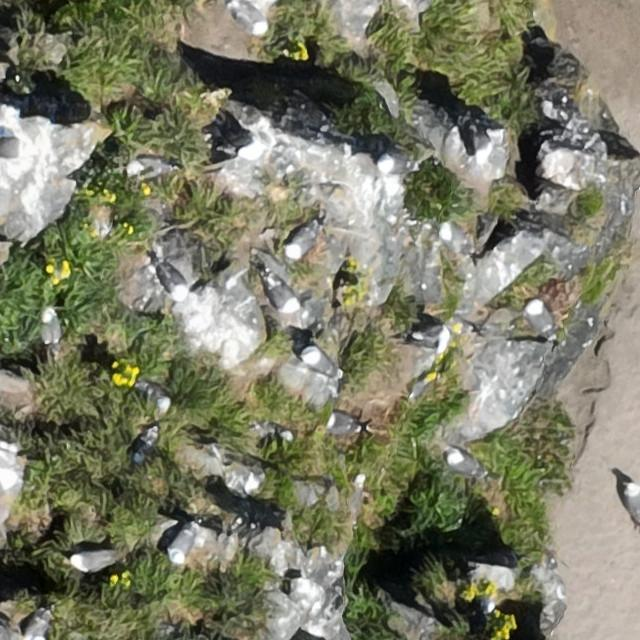umineko: (260, 269, 305, 315), (286, 222, 320, 262), (300, 342, 338, 377), (234, 4, 270, 36), (444, 447, 482, 477), (158, 262, 186, 302), (168, 528, 195, 566), (413, 322, 449, 350), (326, 412, 361, 436), (233, 135, 266, 160), (41, 307, 61, 345), (379, 155, 417, 175), (440, 226, 469, 251), (71, 551, 108, 570), (1, 139, 38, 158), (23, 613, 47, 640), (528, 303, 550, 332), (475, 128, 491, 165), (147, 388, 171, 412), (624, 482, 639, 519), (134, 431, 153, 460), (130, 157, 162, 174)
